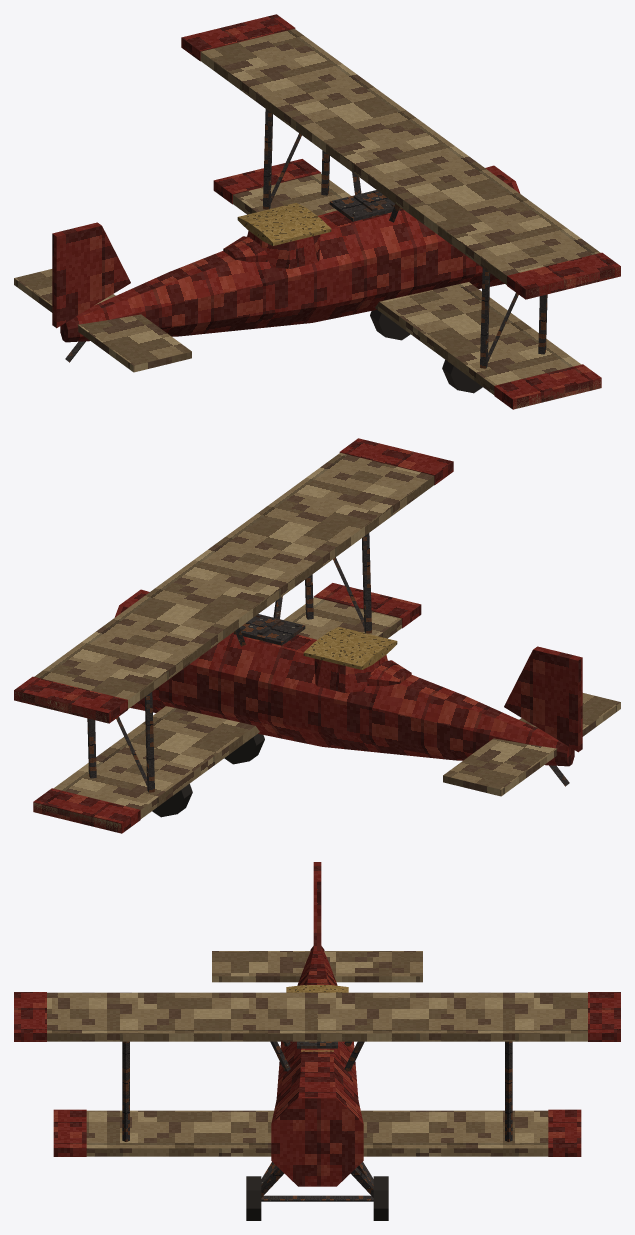
File: SM_CropDuster_Body.fbx
3 renders of one model, top to bottom at view 1: azimuth 30°, elevation 25°; view 2: azimuth 150°, elevation 25°; view 3: azimuth 270°, elevation 25°, orthographic. The views are drawn at different scales.
Parts seen in each view (by area): view 1: SM_CropDuster_Body; view 2: SM_CropDuster_Body; view 3: SM_CropDuster_Body.
Boxes of the visible parts, box(x1,y1,x2,y2) form: SM_CropDuster_Body: box(14, 14, 620, 409); SM_CropDuster_Body: box(14, 438, 620, 833); SM_CropDuster_Body: box(14, 862, 620, 1220).
Size of the model in its own units: 695 by 326 by 920.
